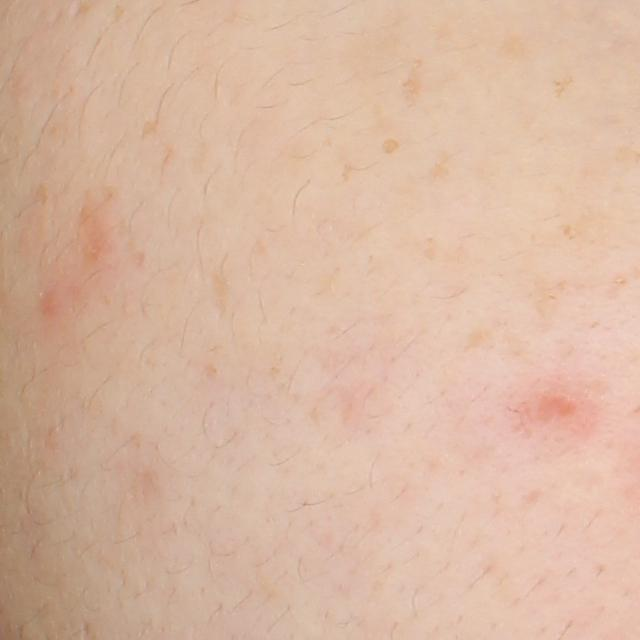atrophic_scar: (533, 391, 581, 427)
melasma: (417, 146, 460, 184), (400, 56, 427, 111), (551, 73, 578, 102)
